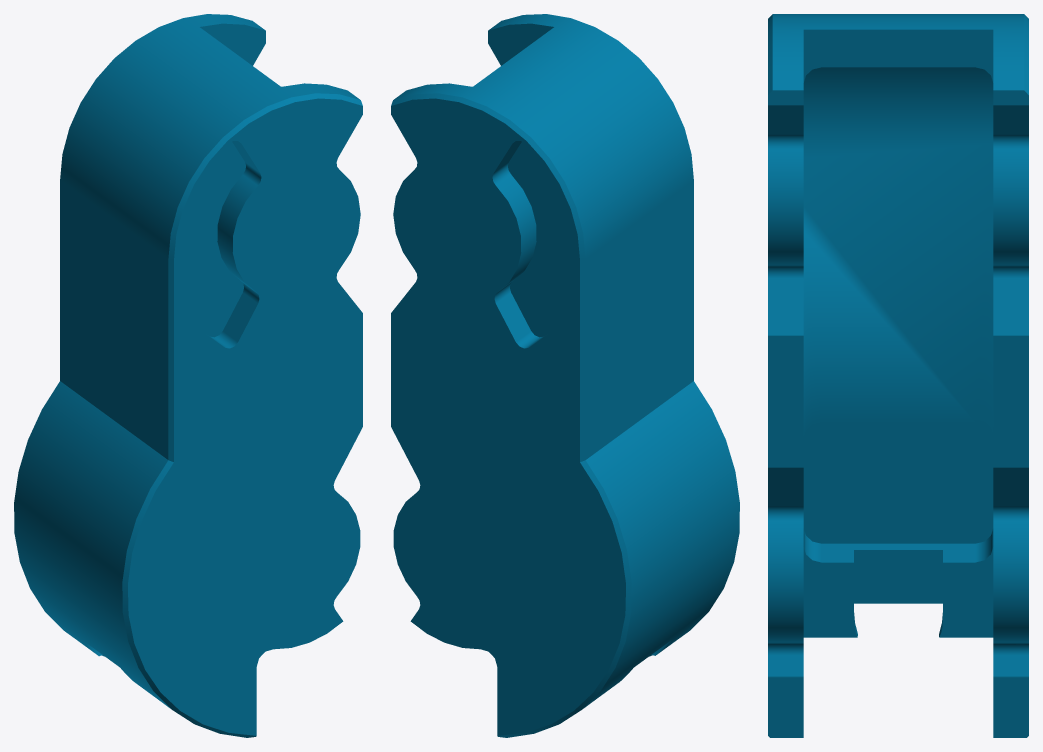
Rendered from elbow_middle_link.dae.
3 views of the same model, side by side, from view 1: azimuth 30°, elevation 25°; view 2: azimuth 150°, elevation 25°; view 3: azimuth 270°, elevation 25° (orthographic). The views are drawn at different scales.
Visible parts, largest first — view 1: FBXASC227FBXASC130FBXASC189FBXASC227FBXASC131FBXASC170FBXASC; view 2: FBXASC227FBXASC130FBXASC189FBXASC227FBXASC131FBXASC170FBXASC; view 3: FBXASC227FBXASC130FBXASC189FBXASC227FBXASC131FBXASC170FBXASC.
Boxes of the visible parts, <box> form: FBXASC227FBXASC130FBXASC189FBXASC227FBXASC131FBXASC170FBXASC: <box>14,14,362,737</box>; FBXASC227FBXASC130FBXASC189FBXASC227FBXASC131FBXASC170FBXASC: <box>391,14,739,737</box>; FBXASC227FBXASC130FBXASC189FBXASC227FBXASC131FBXASC170FBXASC: <box>768,14,1028,737</box>.
Bounding box in the file's own units: 0.0539 × 0.044 × 0.136.
